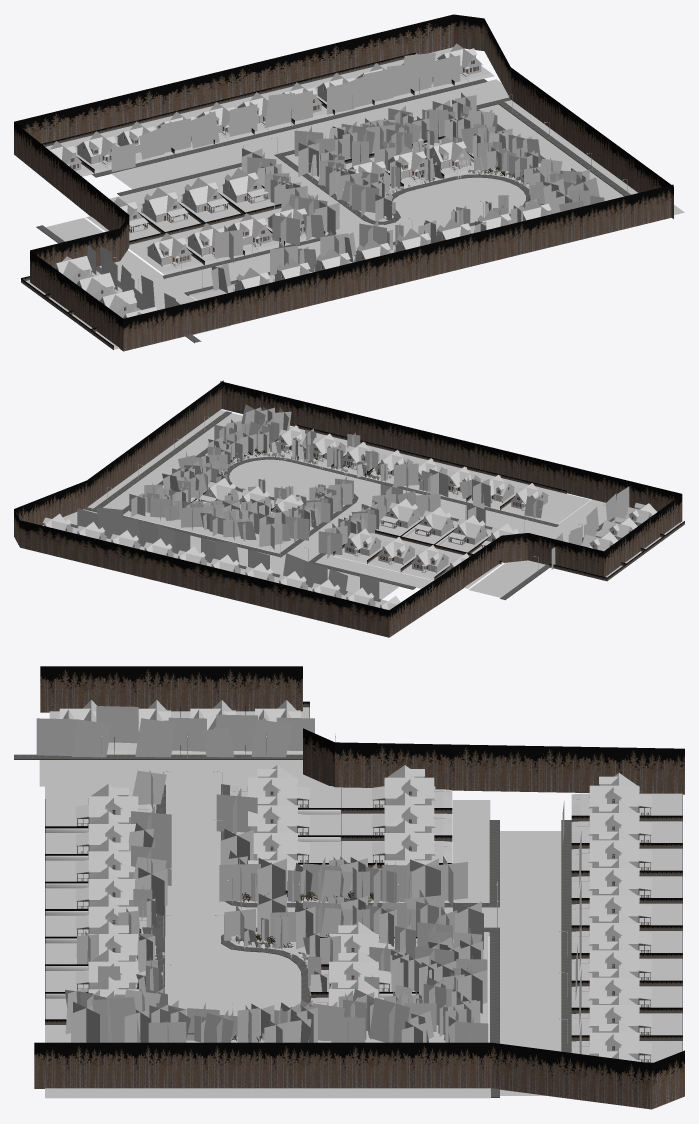
The model's file is House.fbx.
The picture shows the model from 3 angles, top to bottom: view 1: azimuth 30°, elevation 25°; view 2: azimuth 150°, elevation 25°; view 3: azimuth 270°, elevation 25°; orthographic projection. The views are drawn at different scales.
Visible parts, largest first — view 1: Background, AsphaltDamaged_004, AsphaltDamaged, AsphaltDamaged_001, AsphaltDamaged_005, AsphaltDamaged_002, Sidewalk_002, Sidewalk, AsphaltDamaged_003, Sidewalk_001, House.007, House.008 (+37 smaller); view 2: Background, AsphaltDamaged_001, AsphaltDamaged, AsphaltDamaged_005, AsphaltDamaged_002, grass_soil_003, AsphaltDamaged_004, grass_soil_011, grass_soil_002, AsphaltDamaged_003, Sidewalk, House.004 (+33 smaller); view 3: Background, AsphaltDamaged_004, AsphaltDamaged, AsphaltDamaged_002, AsphaltDamaged_005, AsphaltDamaged_001, grass_soil_002, Sidewalk_002, grass_soil_011, House.014, House.012, grass_soil_003 (+88 smaller).
Part boxes in pixels (left/top/right/bottom): Background: left=14, top=14, right=673, bottom=351; AsphaltDamaged_004: left=111, top=79, right=509, bottom=189; AsphaltDamaged: left=385, top=177, right=525, bottom=236; AsphaltDamaged_001: left=476, top=100, right=684, bottom=214; AsphaltDamaged_005: left=45, top=218, right=230, bottom=334; AsphaltDamaged_002: left=165, top=225, right=404, bottom=293; Sidewalk_002: left=91, top=79, right=487, bottom=177; Sidewalk: left=278, top=156, right=530, bottom=234; AsphaltDamaged_003: left=265, top=156, right=383, bottom=234; Sidewalk_001: left=117, top=163, right=336, bottom=278; House.007: left=142, top=187, right=188, bottom=223; House.008: left=181, top=177, right=228, bottom=213; Background: left=14, top=380, right=682, bottom=637; AsphaltDamaged_001: left=87, top=409, right=242, bottom=514; AsphaltDamaged: left=229, top=459, right=368, bottom=500; AsphaltDamaged_005: left=469, top=499, right=606, bottom=597; AsphaltDamaged_002: left=355, top=481, right=556, bottom=536; grass_soil_003: left=123, top=426, right=326, bottom=553; AsphaltDamaged_004: left=63, top=509, right=399, bottom=599; grass_soil_011: left=500, top=486, right=590, bottom=524; grass_soil_002: left=315, top=554, right=433, bottom=588; AsphaltDamaged_003: left=275, top=494, right=372, bottom=561; Sidewalk: left=223, top=457, right=371, bottom=554; House.004: left=448, top=515, right=487, bottom=545; Background: left=34, top=666, right=684, bottom=1109; AsphaltDamaged_004: left=497, top=831, right=561, bottom=1095; AsphaltDamaged: left=164, top=936, right=301, bottom=1016; AsphaltDamaged_002: left=165, top=784, right=220, bottom=937; AsphaltDamaged_005: left=39, top=760, right=328, bottom=786; AsphaltDamaged_001: left=45, top=1088, right=490, bottom=1098; grass_soil_002: left=236, top=800, right=490, bottom=902; Sidewalk_002: left=561, top=820, right=571, bottom=1052; grass_soil_011: left=45, top=785, right=156, bottom=826; House.014: left=588, top=882, right=651, bottom=925; House.012: left=588, top=828, right=651, bottom=870; grass_soil_003: left=45, top=932, right=488, bottom=1042.
Size of the model in its own units: 29798 by 2168 by 21057.
